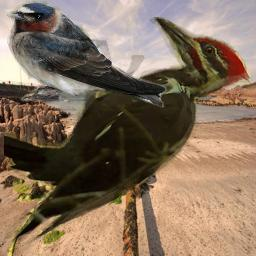Swallow: (4, 0, 168, 108)
Woodpecker: (4, 17, 252, 246)
